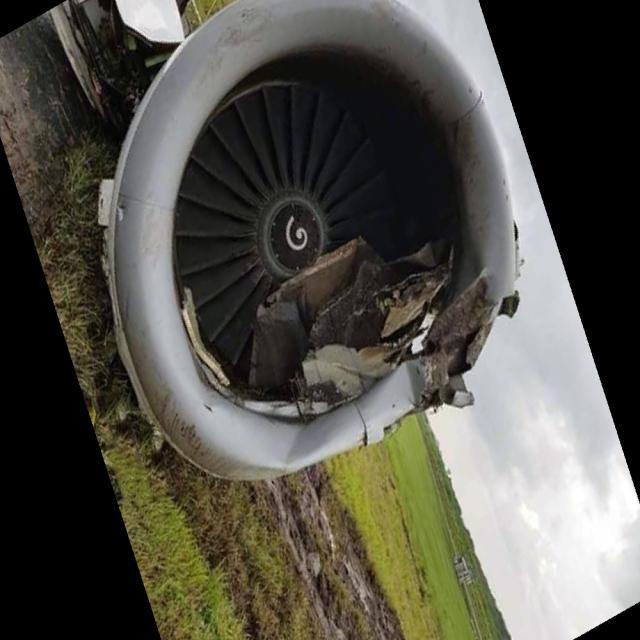dent: (222, 413, 341, 485), (393, 361, 427, 411)
